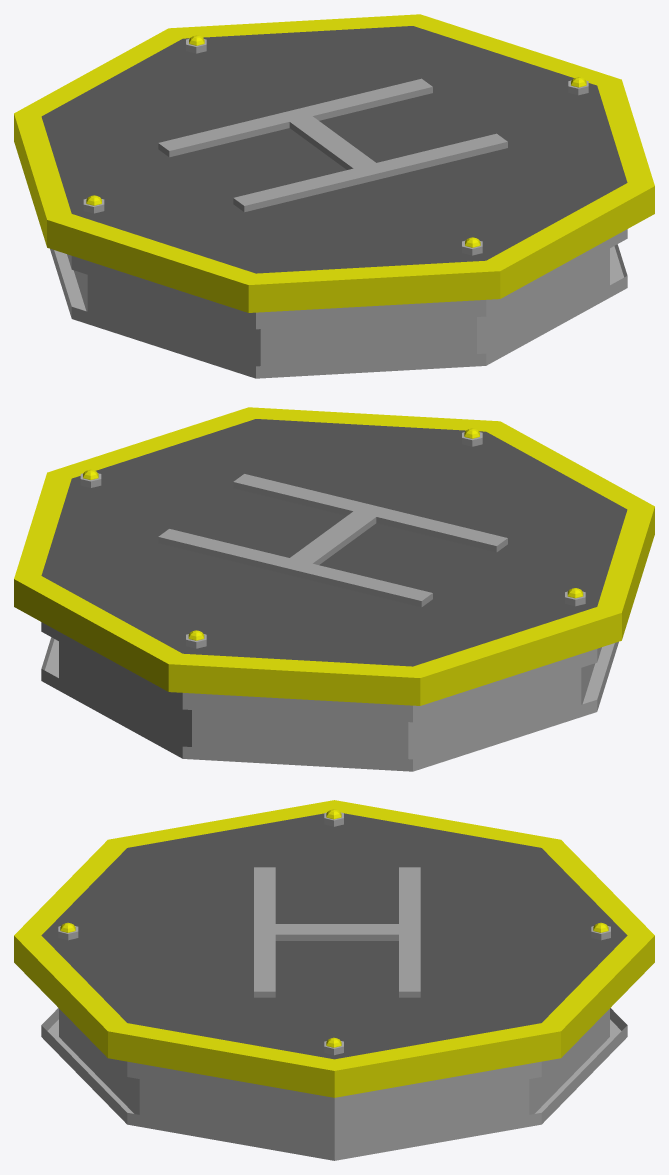
The model's file is HeliPad.fbx.
The picture shows the model from 3 angles, top to bottom: view 1: azimuth 30°, elevation 25°; view 2: azimuth 150°, elevation 25°; view 3: azimuth 270°, elevation 25°; orthographic projection. The views are drawn at different scales.
Parts seen in each view (by area): view 1: pCylinder1, pCube3, pCube1, pCube2; view 2: pCylinder1, pCube1, pCube3, pCube2; view 3: pCylinder1, pCube1, pCube3, pCube2.
Boxes of the visible parts, x1,y1,x2,y2 form: pCylinder1: (14,14,654,378); pCube3: (233,133,507,212); pCube1: (158,78,432,157); pCube2: (279,108,386,176); pCylinder1: (14,407,654,771); pCube1: (158,529,432,607); pCube3: (233,474,507,552); pCube2: (279,503,386,571); pCylinder1: (14,800,654,1160); pCube1: (399,867,420,997); pCube3: (254,867,275,997); pCube2: (254,924,420,940).
Size of the model in its own units: 12.64 by 2.47 by 12.64.
